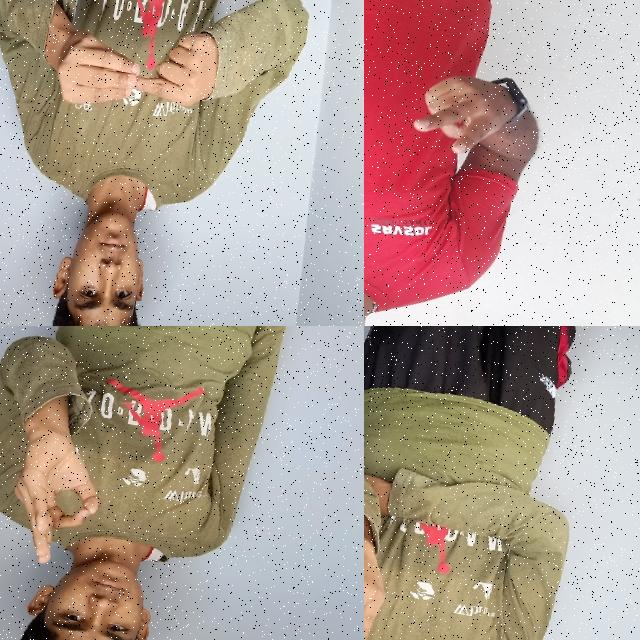Corna: (364, 500, 407, 640)
Five Fathers: (42, 0, 224, 135)
Okay: (0, 413, 120, 581)
Reversed Victory: (400, 56, 522, 170)
